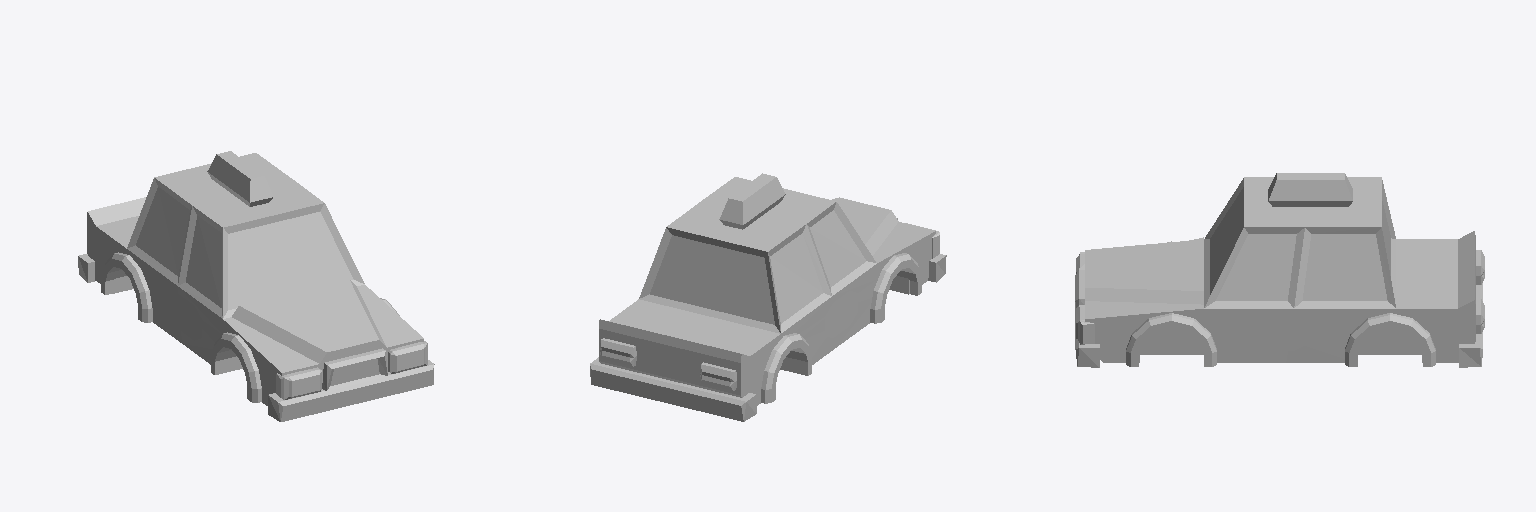
Rendered from car2.obj.
3 renders of one model, left to right at view 1: azimuth 30°, elevation 25°; view 2: azimuth 150°, elevation 25°; view 3: azimuth 270°, elevation 25°, orthographic.
Parts seen in each view (by area): view 1: car_taxi; view 2: car_taxi; view 3: car_taxi.
Part boxes in pixels (x1,y1,x2,y2): car_taxi: (78, 151, 434, 421); car_taxi: (590, 173, 946, 421); car_taxi: (1075, 173, 1484, 367).
Size of the model in its own units: 0.419 by 0.4034 by 0.9381.